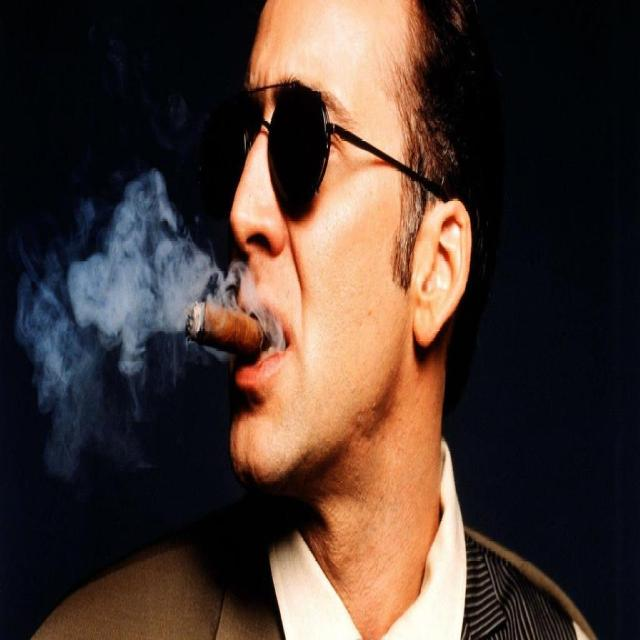smoking: (140, 0, 513, 502)
